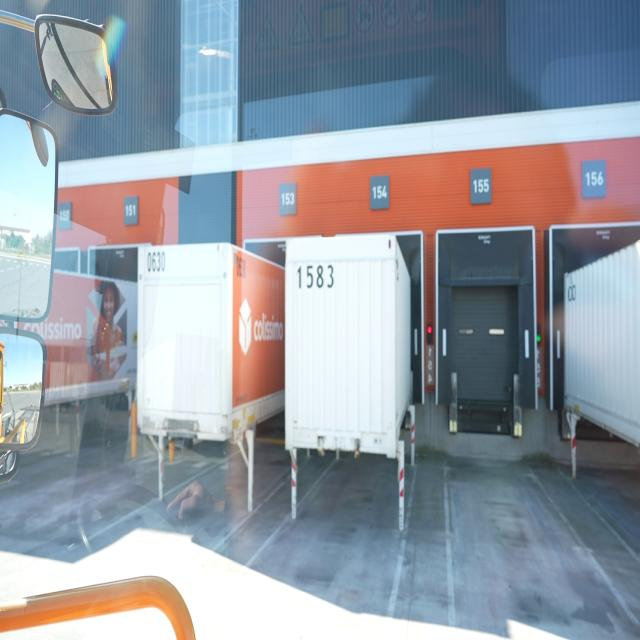Code: (296, 256, 335, 294), (143, 247, 169, 276)
